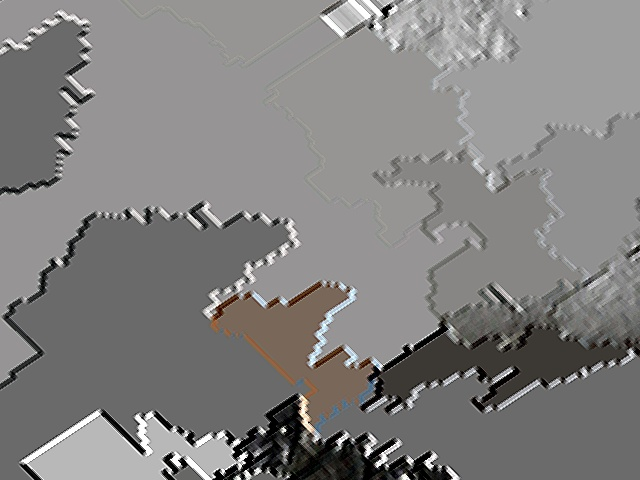one: (176, 342, 236, 390)
